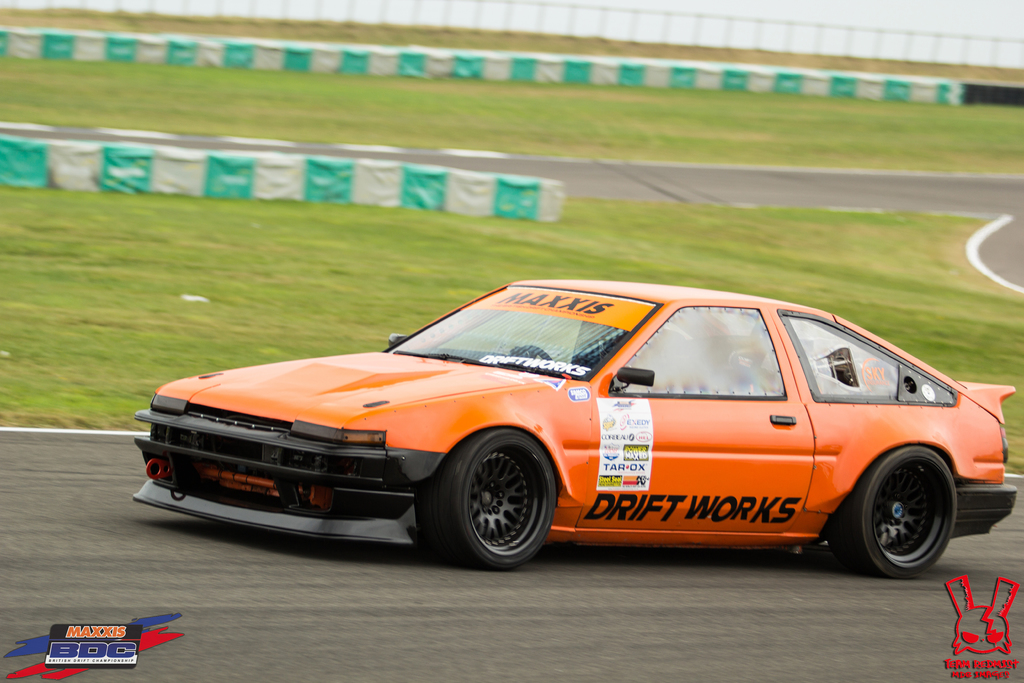Car: (149, 273, 986, 579)
